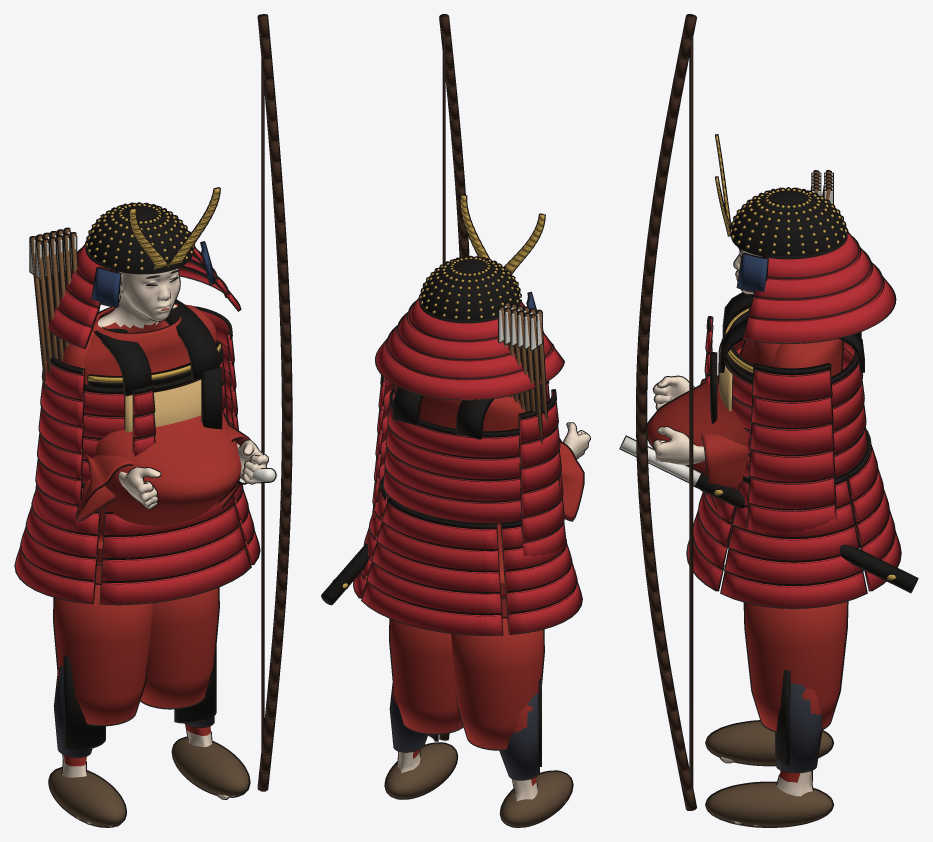
Rendered from bushi_ooyoroi.glb.
The picture shows the model from 3 angles, left to right: view 1: azimuth 30°, elevation 25°; view 2: azimuth 150°, elevation 25°; view 3: azimuth 270°, elevation 25°; orthographic projection. The views are drawn at different scales.
Visible parts, largest first — view 1: shitagi, kusazuri0, hakama.R, yumi, Human, hakama.L, oosode.R, kusazuri3, yumi_sen, hachi, shikoro, kutsu.L (+25 smaller); view 2: kusazuri2, dou, shikoro, hakama.R, hakama.L, kusazuri3, oosode.R, hachi, shitagi, yumi, kutsu.L, kutsu.R (+19 smaller); view 3: oosode.L, shikoro, kusazuri1, yumi, hakama.L, yumi_sen, hachi, shitagi, dou, kutsu.L, Human, kusazuri2 (+18 smaller).
Part boxes in pixels (x1,y1,x2,y2): shitagi: (62,307,241,564); kusazuri0: (100,497,250,603); hakama.R: (54,584,152,724); yumi: (258,15,291,790); Human: (57,268,268,826); hakama.L: (141,588,218,707); oosode.R: (35,352,84,530); kusazuri3: (15,483,99,602); yumi_sen: (257,14,292,791); hachi: (87,205,192,274); shikoro: (43,241,239,347); kutsu.L: (173,738,248,796); kusazuri2: (362,498,502,634); dou: (384,390,520,522); shikoro: (376,299,563,399); hakama.R: (451,618,543,749); hakama.L: (390,619,462,733); kusazuri3: (501,521,581,633); oosode.R: (519,390,565,556); hachi: (421,258,519,320); shitagi: (394,385,525,597); yumi: (440,15,468,739); kutsu.L: (385,743,456,798); kutsu.R: (501,771,572,826); oosode.L: (748,364,835,533); shikoro: (743,233,894,342); kusazuri1: (721,475,866,607); yumi: (637,15,695,809); hakama.L: (745,601,847,730); yumi_sen: (636,14,696,810); hachi: (731,190,845,256); shitagi: (647,339,858,540); dou: (726,340,866,477); kutsu.L: (706,783,832,826); Human: (653,249,820,825); kusazuri2: (847,432,900,590).
Size of the model in its own units: 0.6342 by 2.17 by 0.7207.
